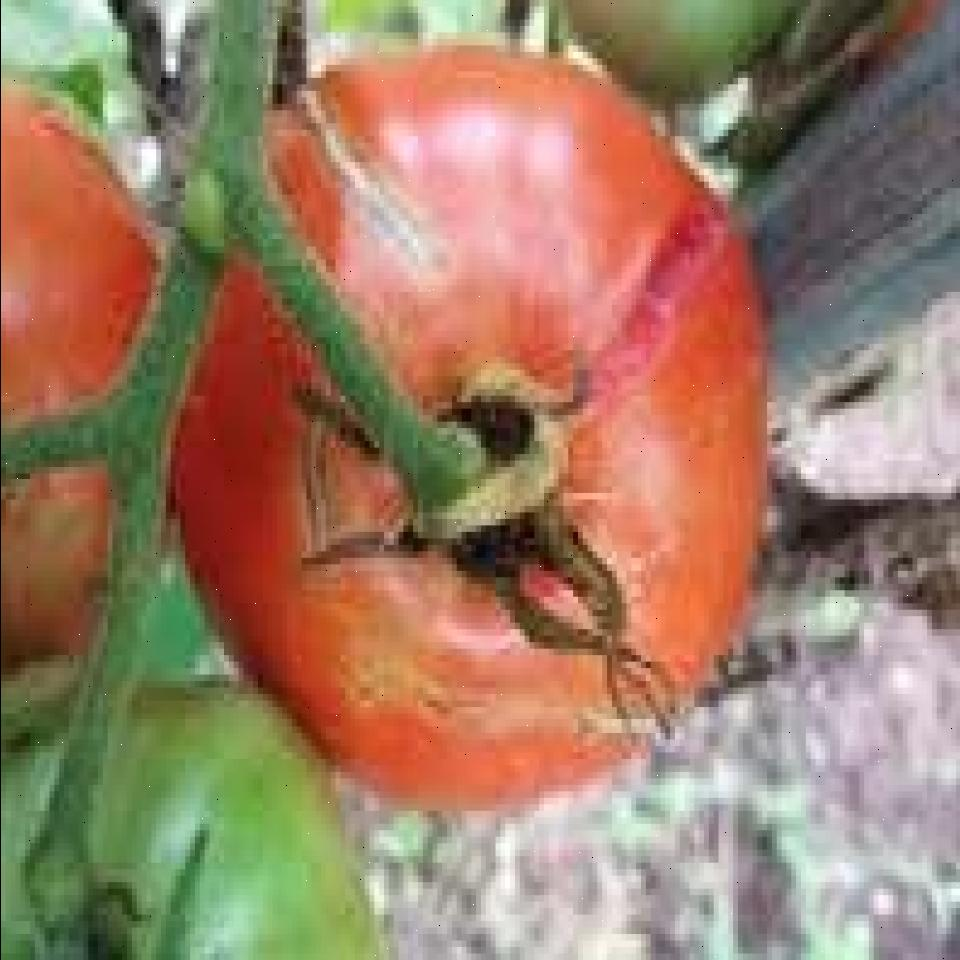Cracking: (311, 624, 682, 794), (285, 314, 364, 616)
